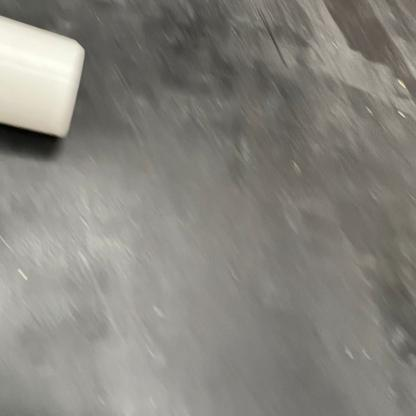white cylinder: (0, 13, 87, 140)
